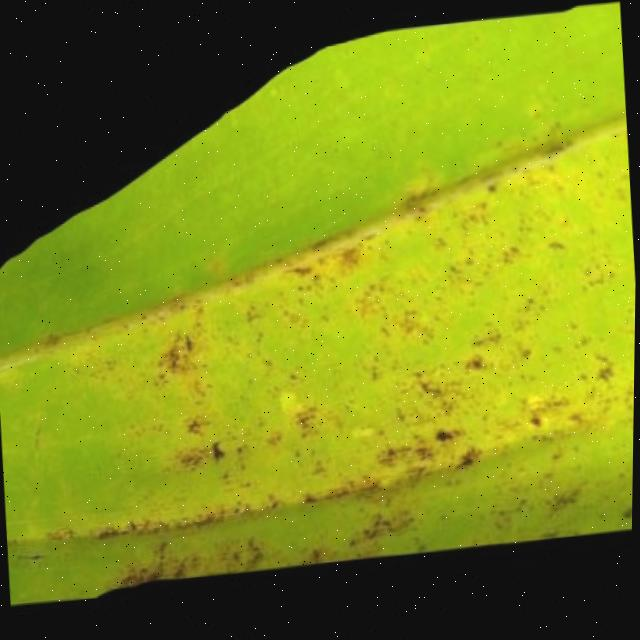mite: (141, 132, 636, 502), (11, 530, 634, 639), (435, 426, 460, 447), (618, 500, 634, 526), (211, 438, 228, 461), (548, 239, 568, 255), (622, 505, 634, 523)
